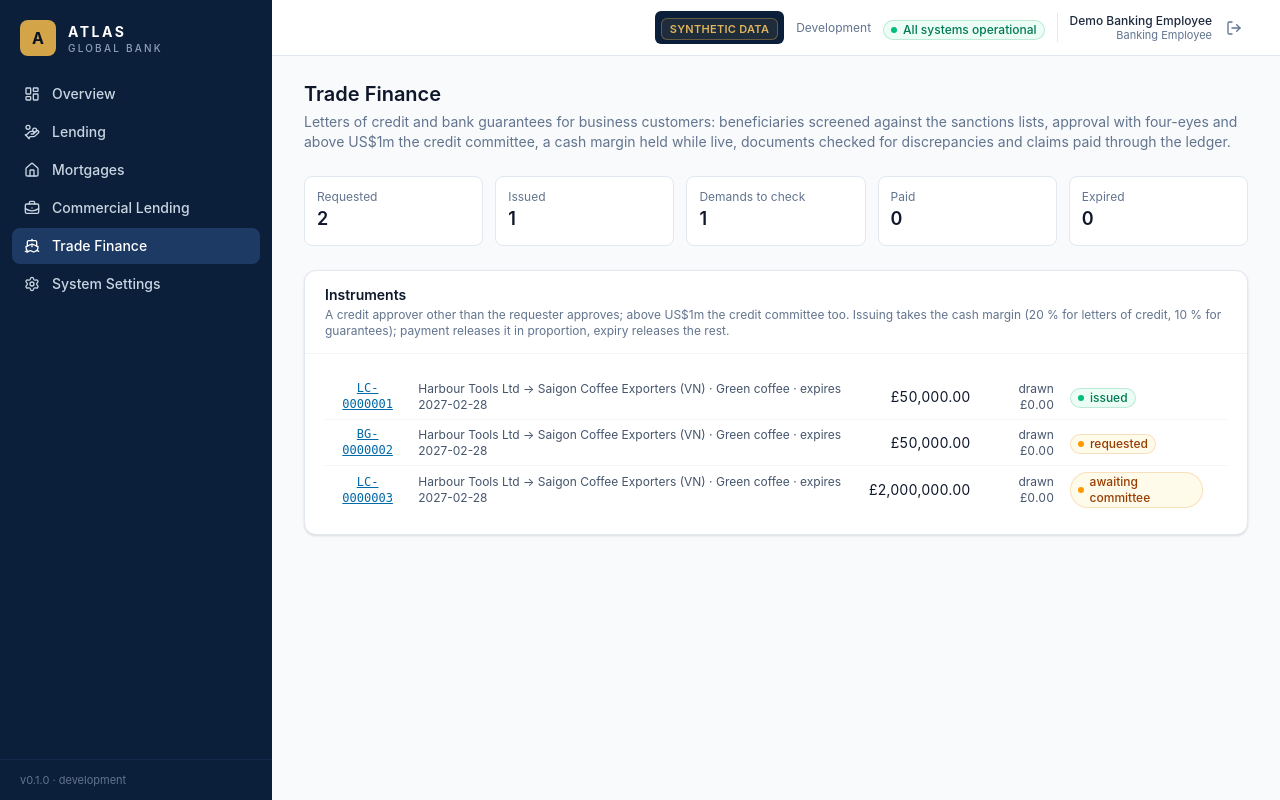
Test: Trade finance page › is read-only without the permissions
Click the button with aria-label "Select LC-0000001": (368, 396) x1=333 y1=380 x2=402 y2=412
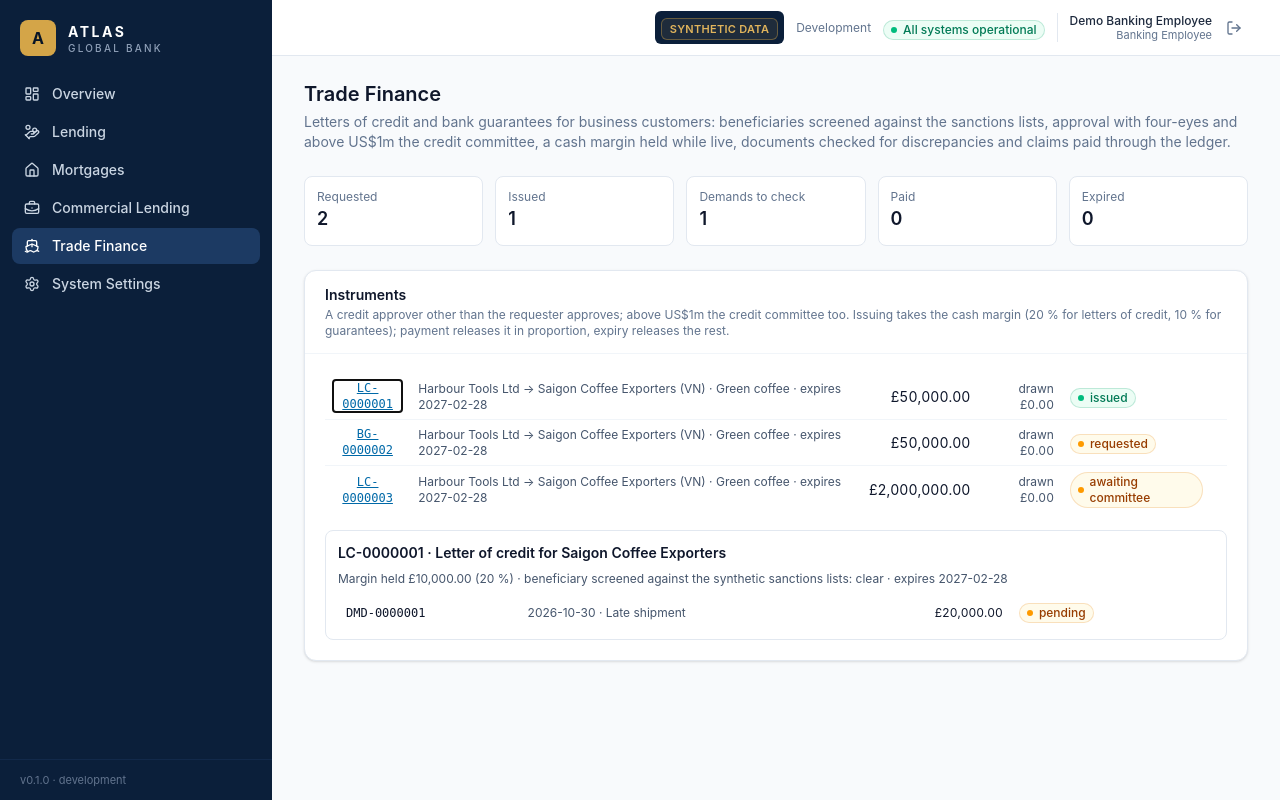
Result: the text "DMD-0000001" is shown at x1=338 y1=599 x2=520 y2=627
